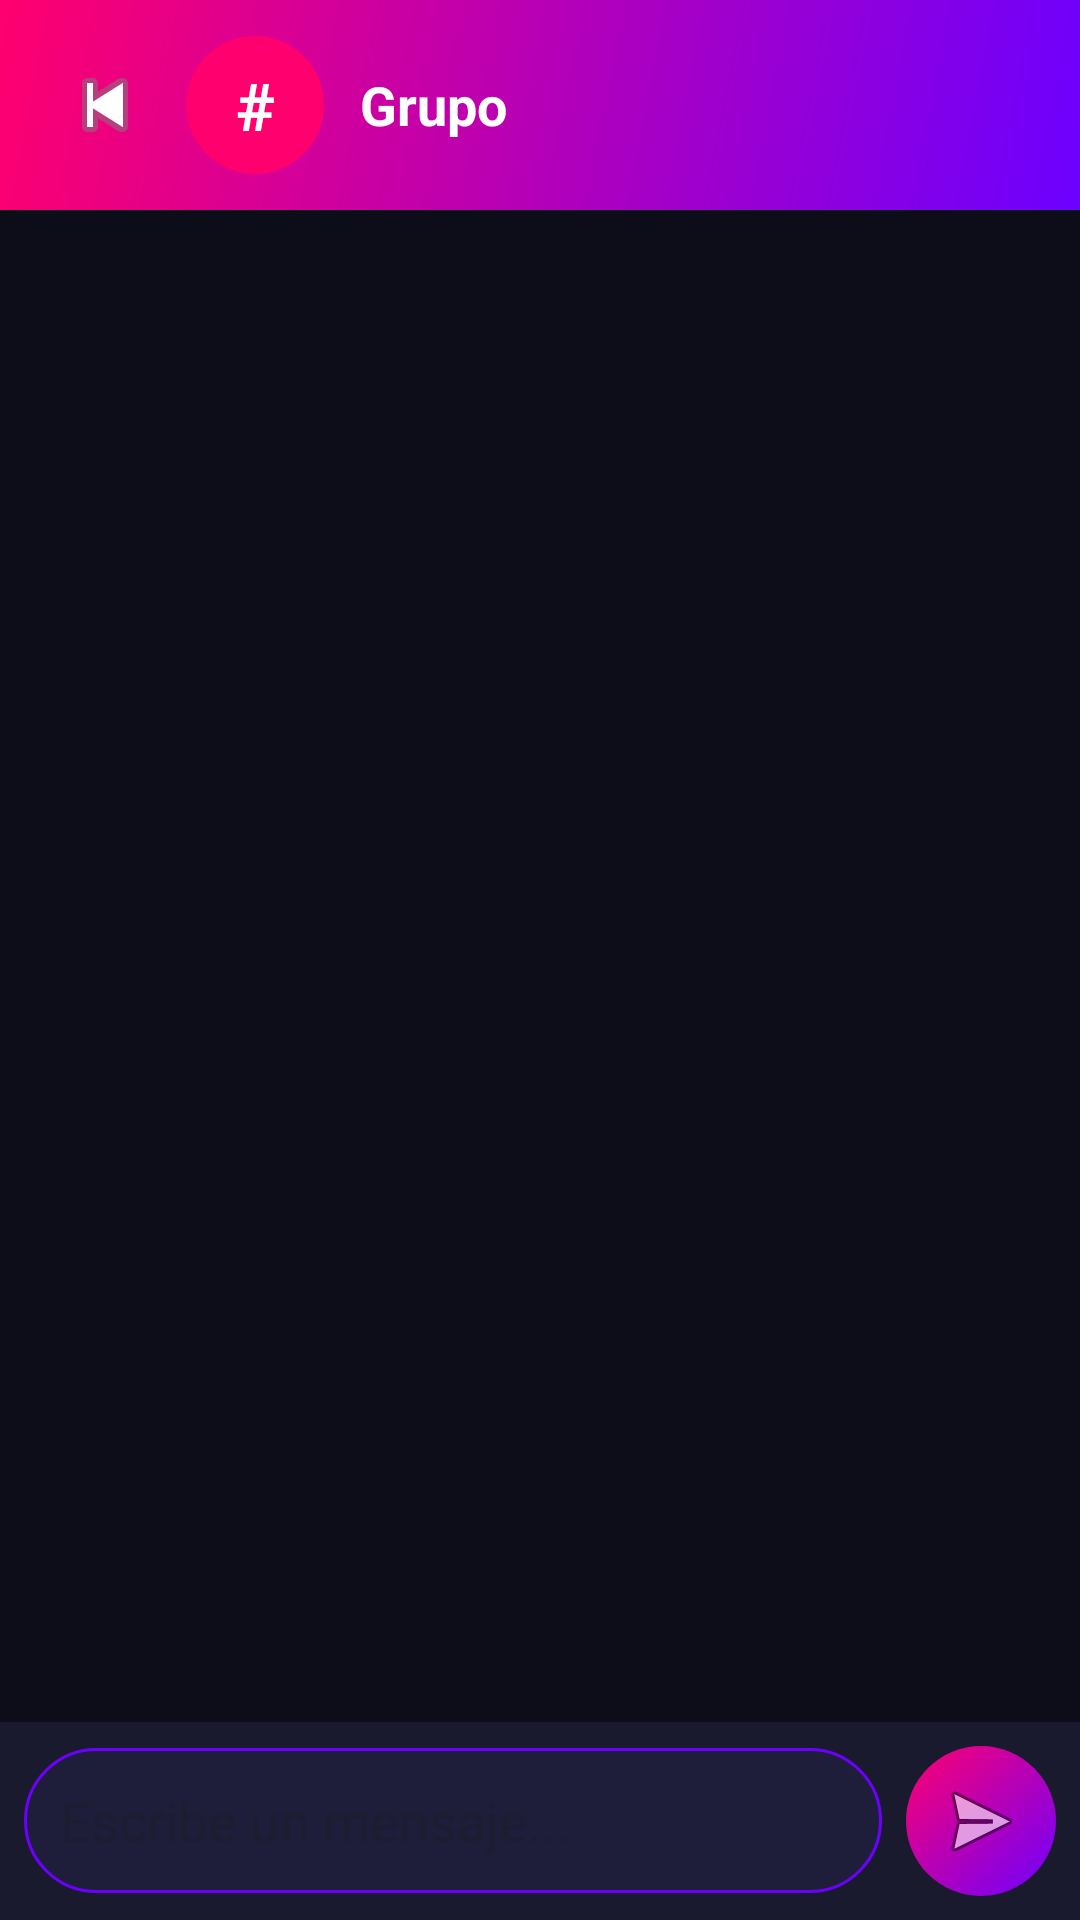

Named icons in this screenshot (1080 x 1920) and their bounding boxes, (x1, y1, x2, y2):
previous: (82, 78, 128, 132)
send: (906, 1746, 1056, 1896)
